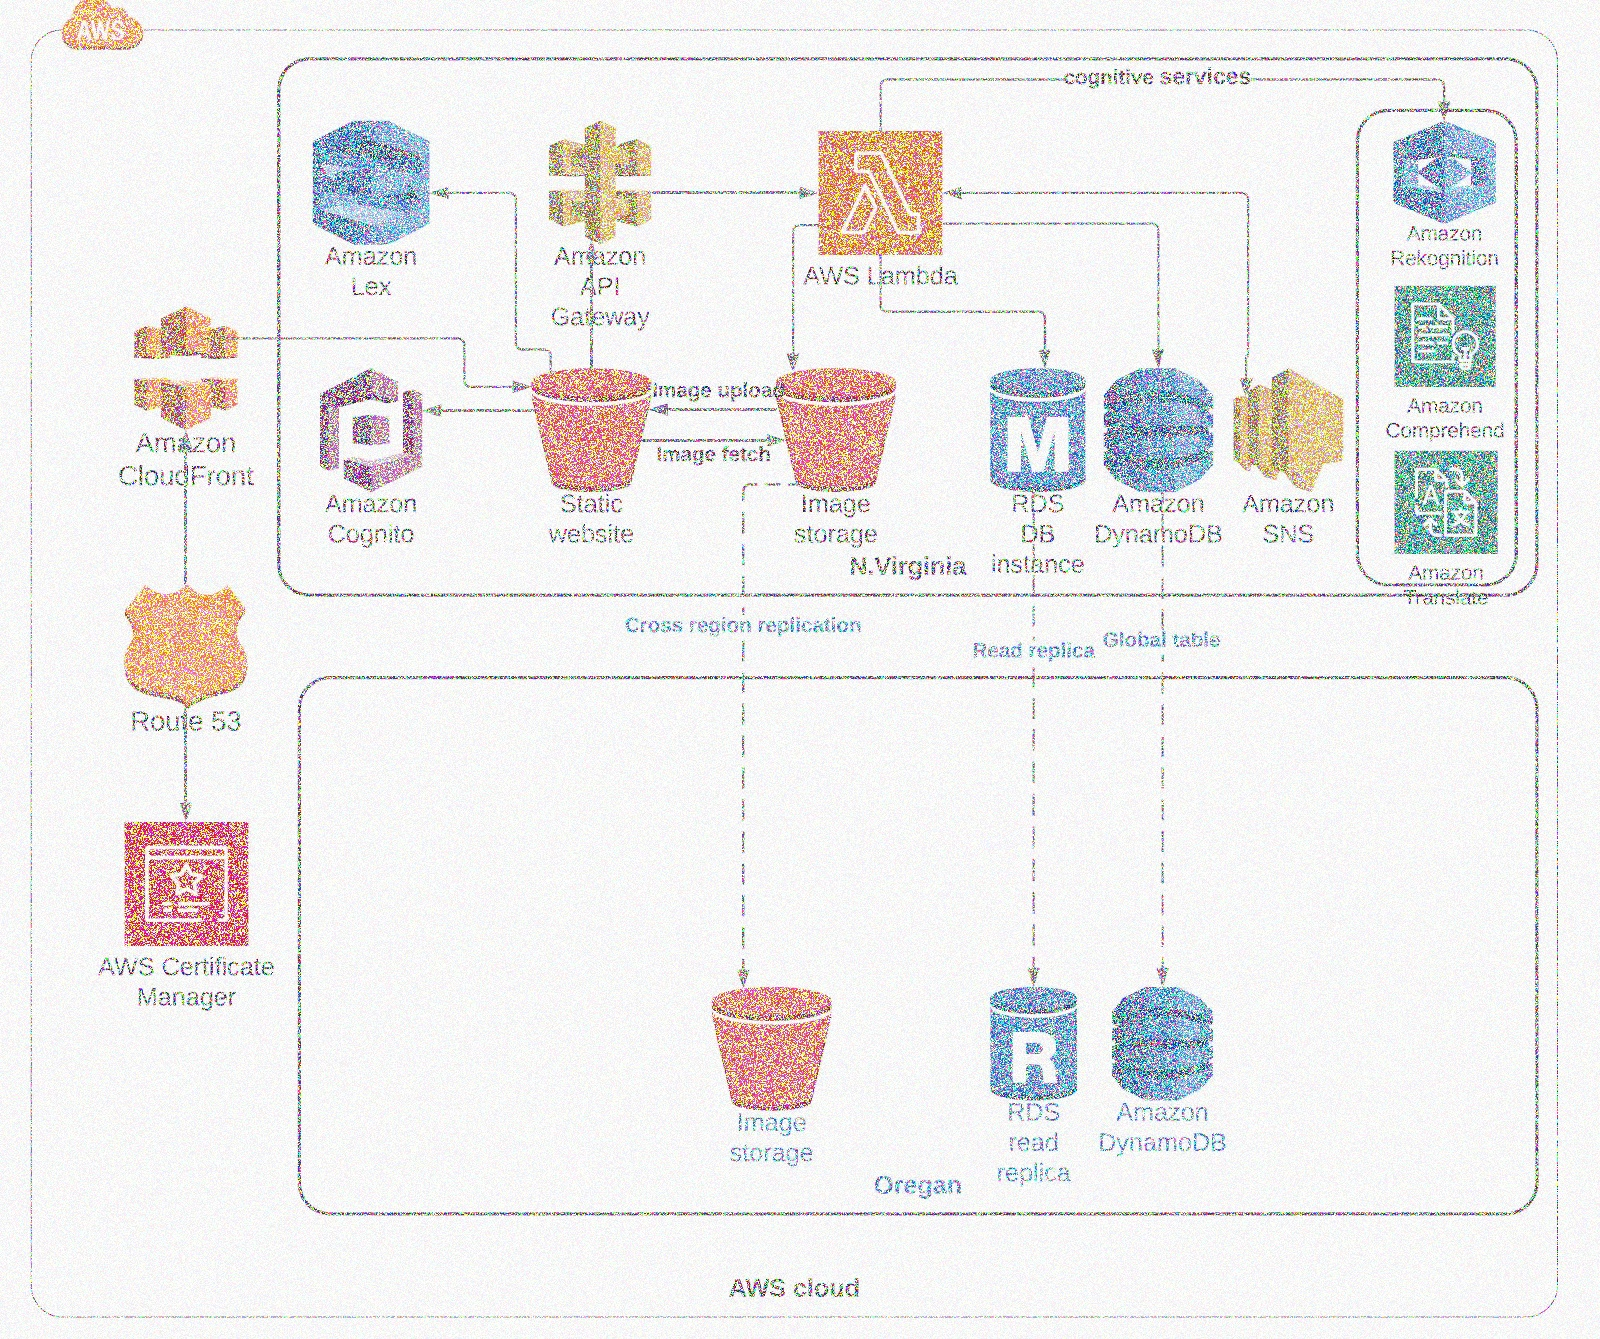API-Gateway: (536, 109, 670, 251)
Certificate Manager: (116, 814, 258, 954)
Cloudfront: (123, 302, 258, 440)
Cognito: (308, 359, 438, 497)
Comprehend: (1388, 279, 1504, 396)
Dynamo DB: (1101, 357, 1219, 500), (1101, 982, 1226, 1107), (981, 362, 1096, 497), (978, 979, 1093, 1110)
Lambda: (811, 122, 951, 264)
Lex: (291, 107, 443, 249)
Rekognition: (1385, 117, 1505, 229)
Route53: (108, 574, 263, 707)
S3: (526, 349, 666, 504), (768, 364, 906, 495), (708, 977, 836, 1117)
SNS: (1228, 362, 1351, 500)
Translate: (1388, 444, 1508, 562)
aws: (53, 0, 160, 61)
